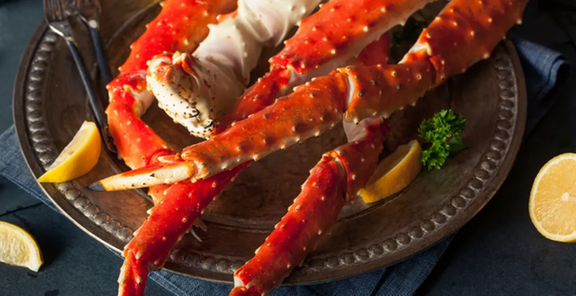curry: (417, 108, 468, 172)
salad: (43, 1, 120, 166)
taco: (528, 153, 576, 243)
